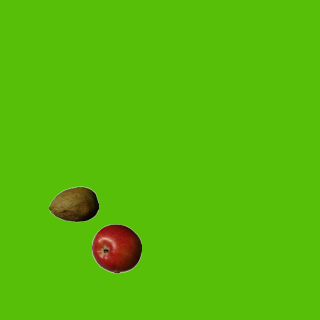Apple Braeburn: (91, 223, 141, 273)
Papaya: (48, 179, 98, 229)
